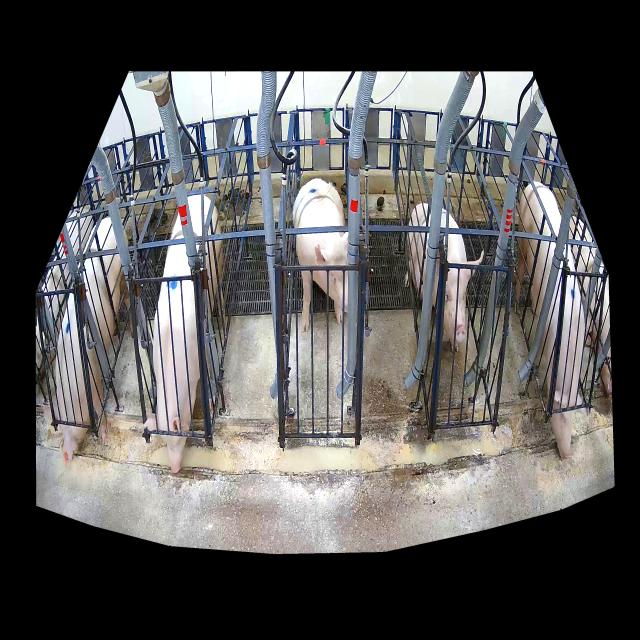pig: (144, 194, 225, 474), (515, 182, 589, 459), (55, 218, 133, 463), (405, 203, 483, 353), (292, 180, 348, 330)
